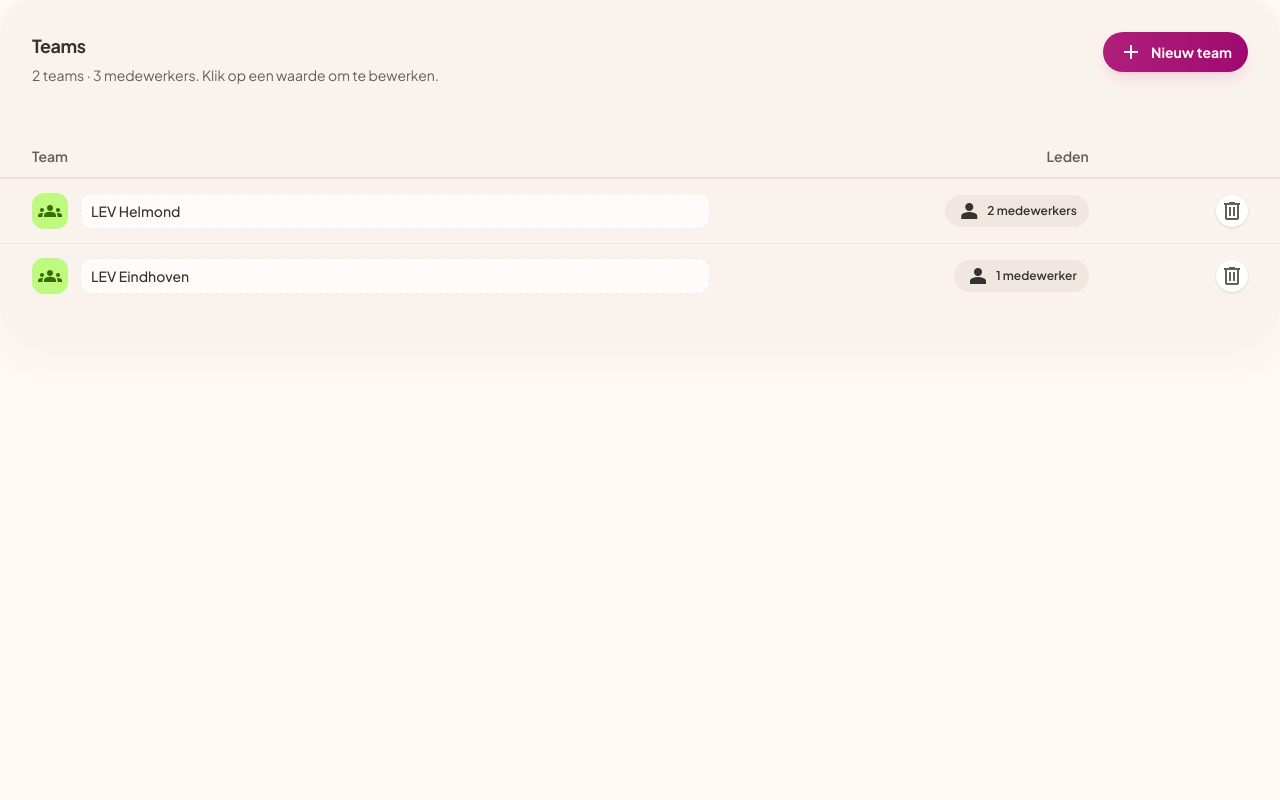
Test: <TeamsTab /> › renders the table and opens the create team modal
Expected: the heading "Teams" is shown, [32, 34, 86, 57]
Click the button "Nieuw team": (1176, 52) [1103, 32, 1248, 72]
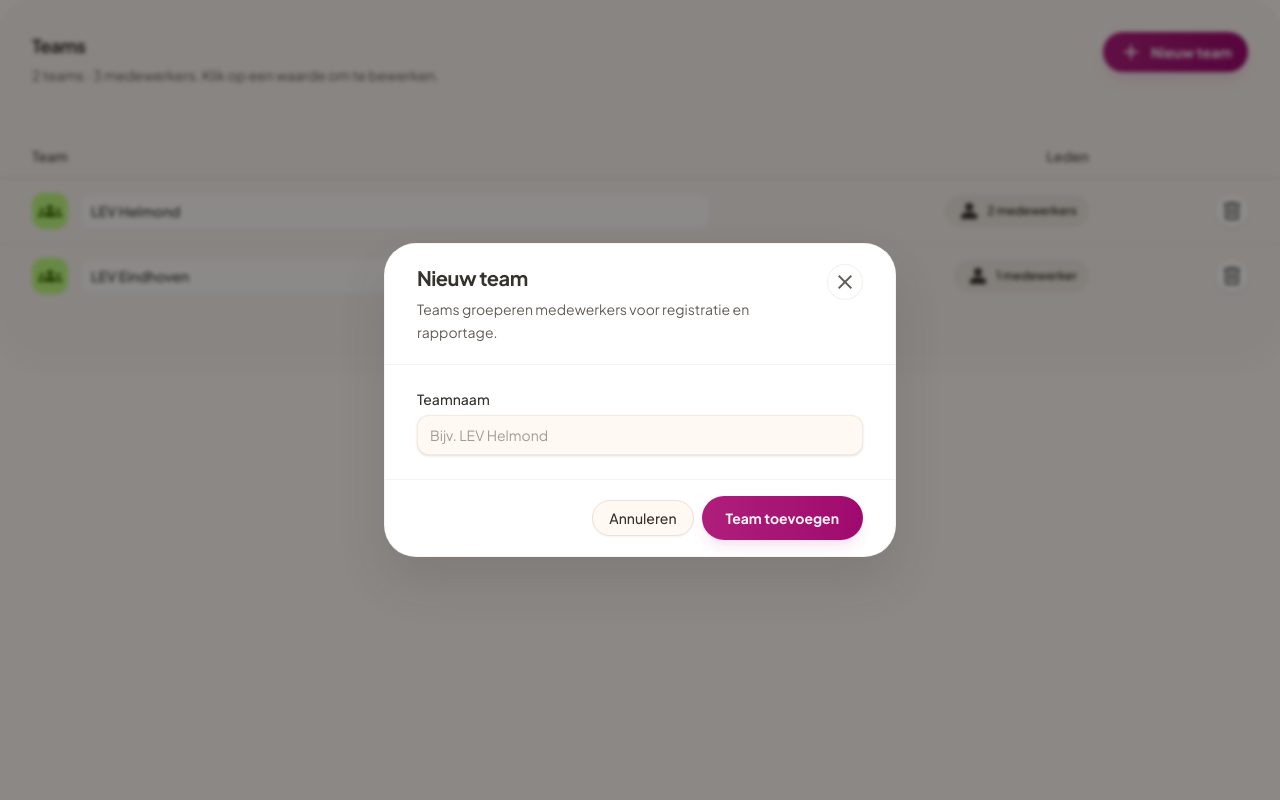
Now the dialog "Nieuw team" is shown, box [384, 243, 896, 557]
